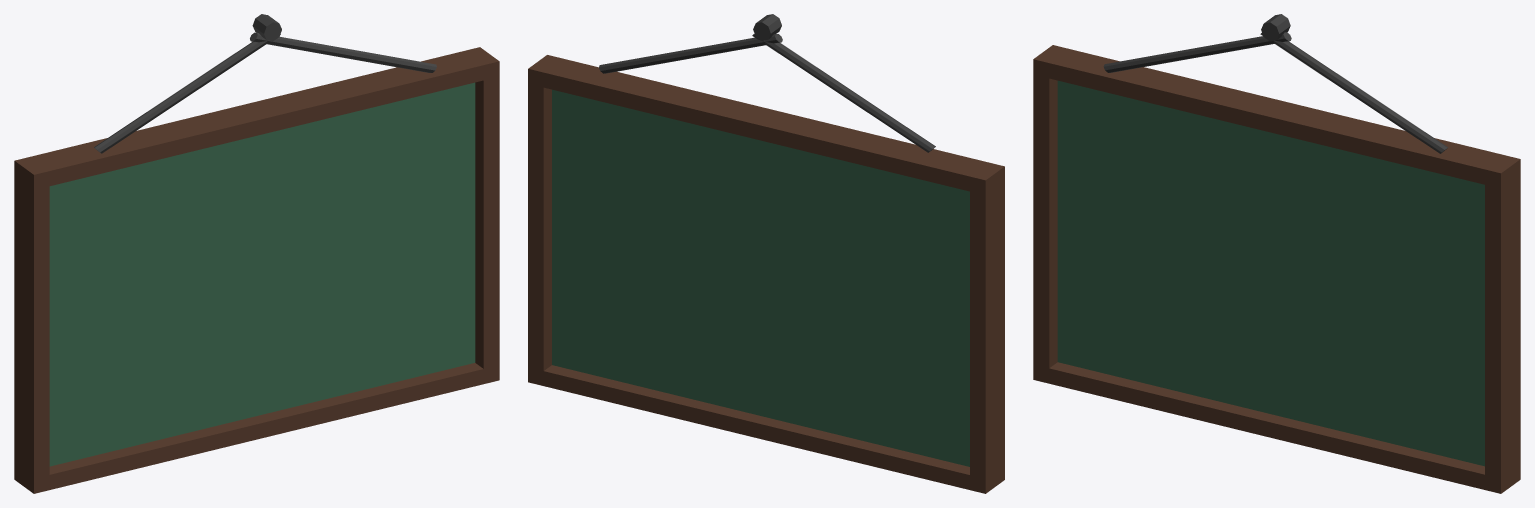
The model's file is Cuadro2.fbx.
The picture shows the model from 3 angles, left to right: view 1: azimuth 30°, elevation 25°; view 2: azimuth 150°, elevation 25°; view 3: azimuth 330°, elevation 25°; orthographic projection. The views are drawn at different scales.
Visible parts, largest first — view 1: Cube.018, Cuadro.001, Cylinder.003, Cylinder.004, Cylinder.005; view 2: Cube.018, Cuadro.001, Cylinder.003, Cylinder.004, Cylinder.005; view 3: Cube.018, Cuadro.001, Cylinder.004, Cylinder.003, Cylinder.005.
Part boxes in pixels (x1,y1,x2,y2): Cube.018: (49,82,475,466); Cuadro.001: (14,47,499,493); Cylinder.003: (94,34,280,153); Cylinder.004: (250,32,436,72); Cylinder.005: (252,14,281,41); Cube.018: (552,89,969,466); Cuadro.001: (528,55,1004,493); Cylinder.003: (752,34,935,152); Cylinder.004: (599,34,782,73); Cylinder.005: (753,14,781,40); Cube.018: (1057,80,1484,466); Cuadro.001: (1033,45,1520,493); Cylinder.004: (1260,33,1447,153); Cylinder.003: (1103,32,1291,72); Cylinder.005: (1261,14,1290,41).
Size of the model in its own units: 102 by 8.06 by 87.17.
